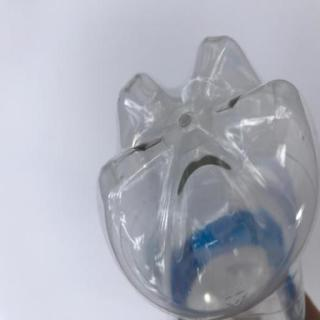Plastic-bottle: (96, 33, 320, 320)
